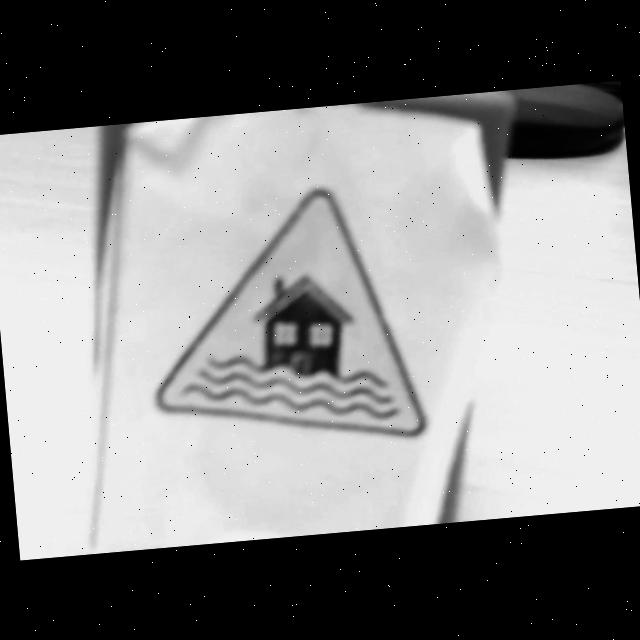Tsunami: (156, 189, 425, 437)
